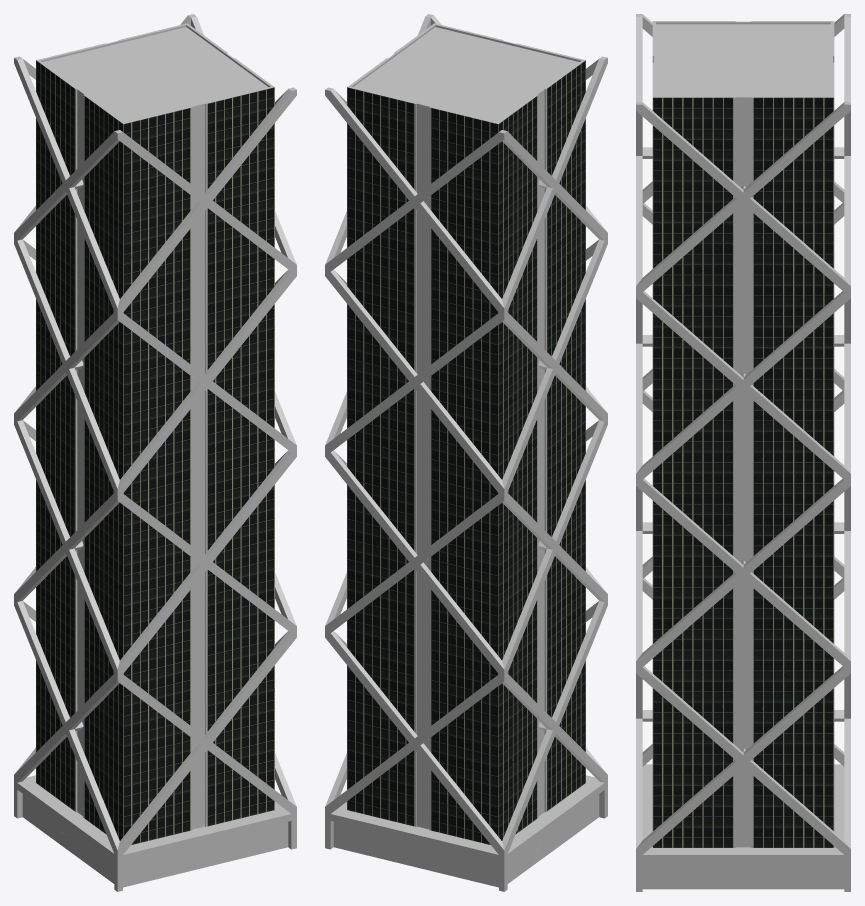
3 renders of one model, left to right at view 1: azimuth 30°, elevation 25°; view 2: azimuth 150°, elevation 25°; view 3: azimuth 270°, elevation 25°, orthographic. The views are drawn at different scales.
Parts seen in each view (by area): view 1: EC-022; view 2: EC-022; view 3: EC-022.
Boxes of the visible parts, box(x1,y1,x2,y2) form: EC-022: box(14, 14, 296, 891); EC-022: box(325, 14, 607, 891); EC-022: box(636, 14, 850, 891).
Size of what is drawn, in the model's own units: 32.6 by 132 by 32.6.
